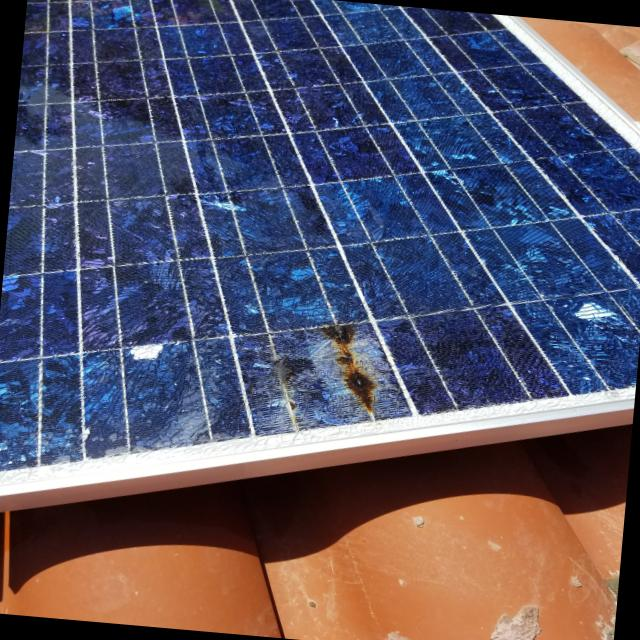faulty: (0, 0, 640, 471), (294, 304, 403, 431)
